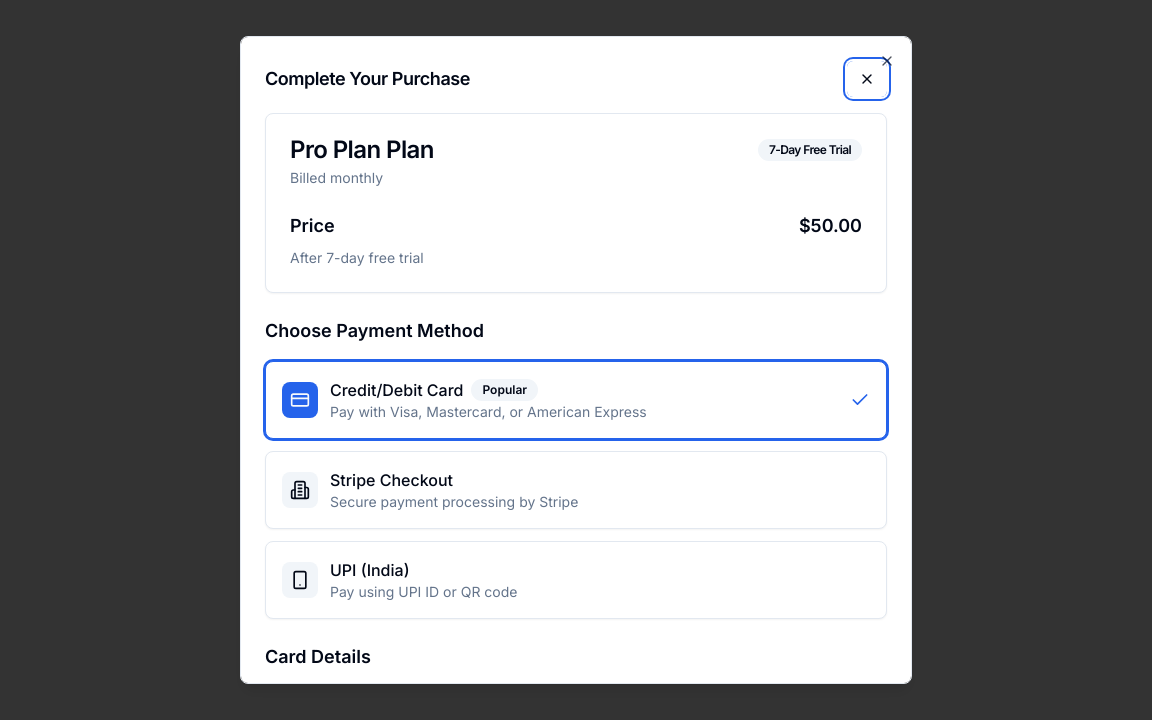
Test case: PaymentPopup › should handle card payment method
What coordinates should you click on to do the following:
click the heading "Credit/Debit Card"
I would click on:
 (397, 390)
Its box is [330,378,464,402].
(page scrolled)
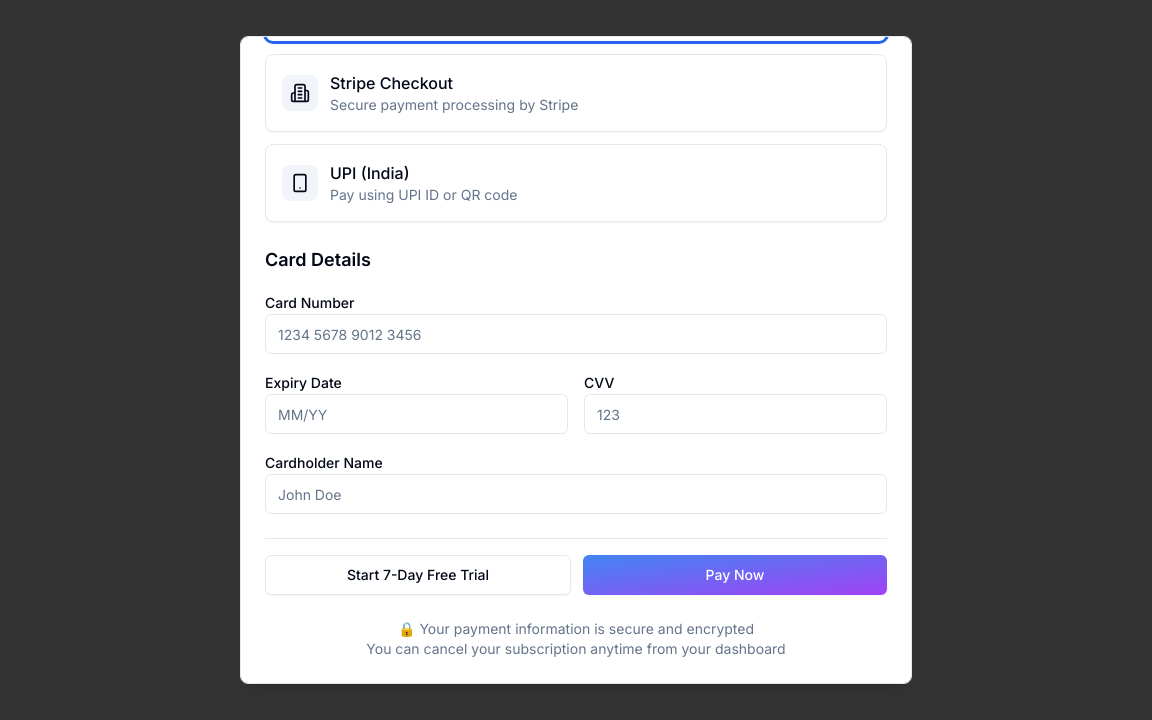
Now the text "Card Number" is shown, box [265,294,354,311]
Now the text "Expiry Date" is shown, box [265,374,342,391]
Now the text "CVV" is shown, box [584,374,614,391]
